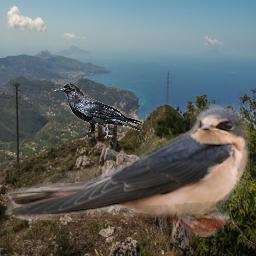Crow: (54, 83, 147, 140)
Swallow: (5, 103, 250, 237)
